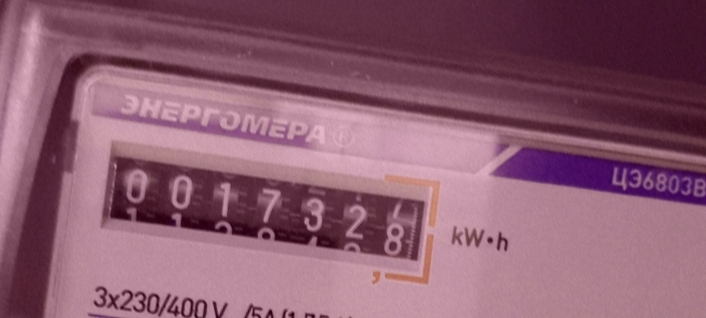0: (120, 164, 150, 206), (167, 171, 194, 211)
1: (211, 177, 234, 219)
2: (341, 201, 368, 240)
3: (300, 195, 326, 233)
7: (255, 185, 282, 226)
8: (381, 219, 404, 256)
screen: (86, 136, 450, 293)
